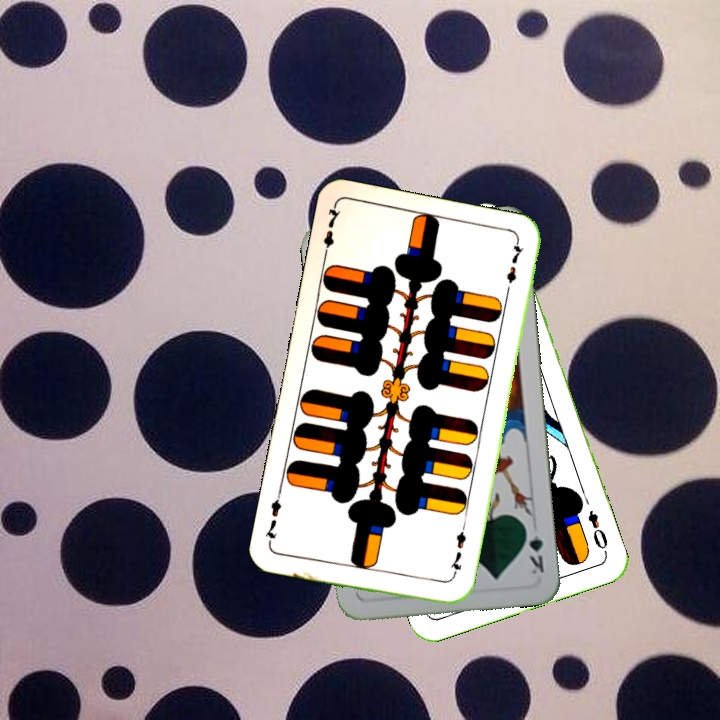E7: (319, 203, 343, 261), (446, 523, 469, 582)
EO: (583, 506, 610, 557)
GK: (521, 519, 547, 579)
